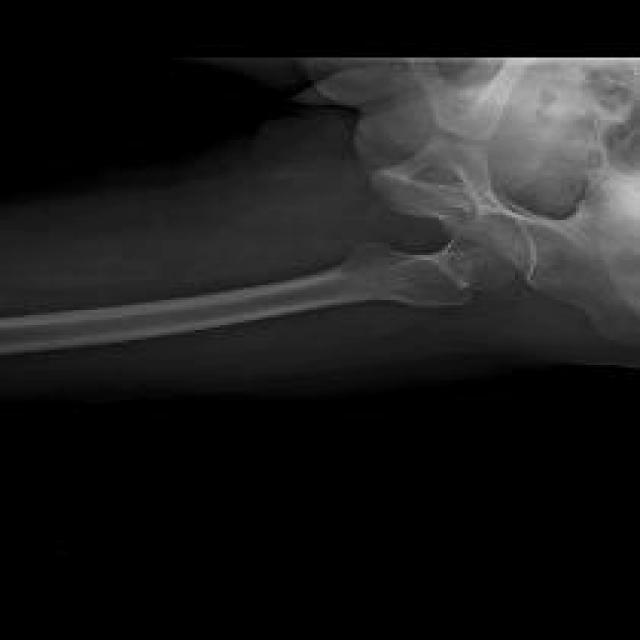normal: (0, 140, 640, 354), (405, 54, 532, 131)
